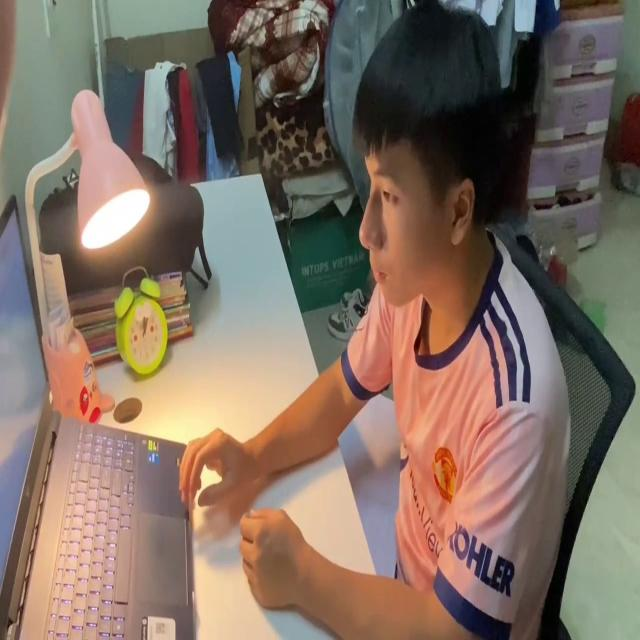book: (338, 369, 404, 590)
laptop: (0, 191, 196, 640)
student: (178, 0, 572, 640)
